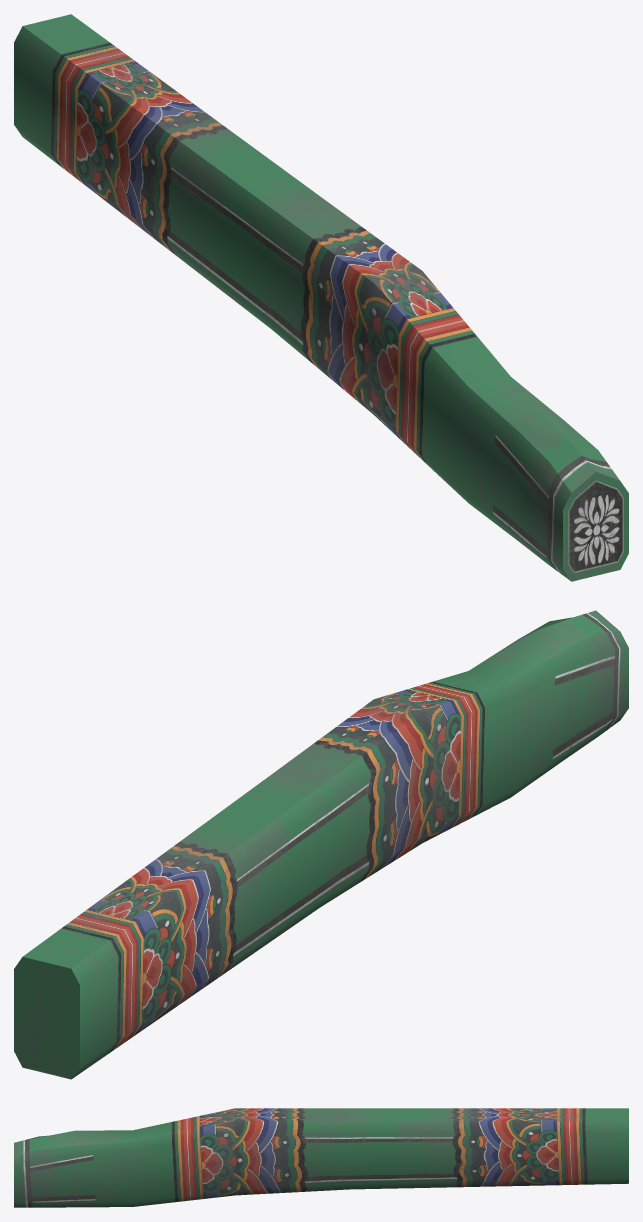
Rendered from SM_Chunglyang01b.fbx.
3 views of the same model, one above another, from view 1: azimuth 30°, elevation 25°; view 2: azimuth 150°, elevation 25°; view 3: azimuth 270°, elevation 25° (orthographic). The views are drawn at different scales.
Parts seen in each view (by area): view 1: SM_Chunglyang01b; view 2: SM_Chunglyang01b; view 3: SM_Chunglyang01b.
Part boxes in pixels (box(x1,y1,x2,y2)): SM_Chunglyang01b: box(14, 14, 628, 581); SM_Chunglyang01b: box(14, 610, 628, 1079); SM_Chunglyang01b: box(14, 1108, 628, 1207).
Size of the model in its own units: 18 by 260 by 40.28.
Materials: 1 (1 with a texture image).
